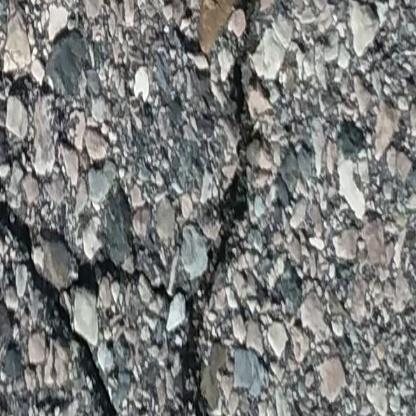Cracks: (0, 0, 266, 416)
